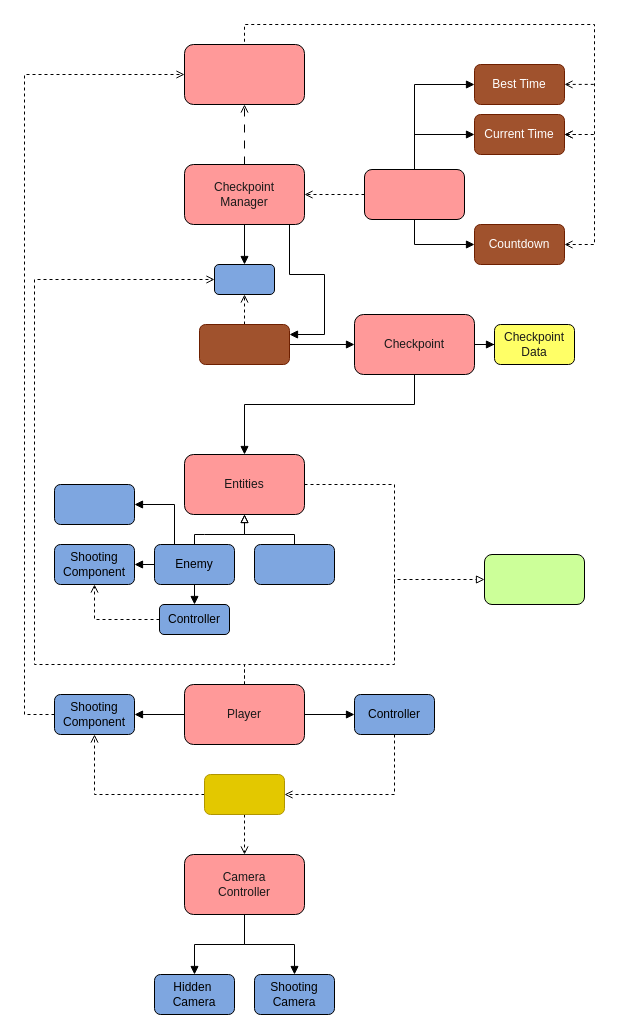
The diagram is 620 pixels wide and 1032 high, and some of its shapes have lost their labels. The centre of each missing label's shape, as x and y in pixels:
"Checkpoints[]" goes at point 244,344.
"IDamageable" goes at point 534,579.
"Input Manager" goes at point 244,794.
"Movement" goes at point 94,504.
"Path" goes at point 244,279.
"Prop" goes at point 294,564.
"Summary UI" goes at point 244,74.
"Time Manager" goes at point 414,194.
